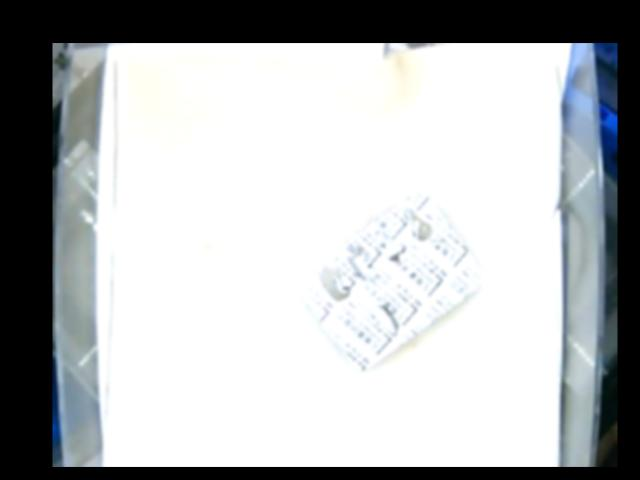Medicine: (296, 193, 482, 369)
